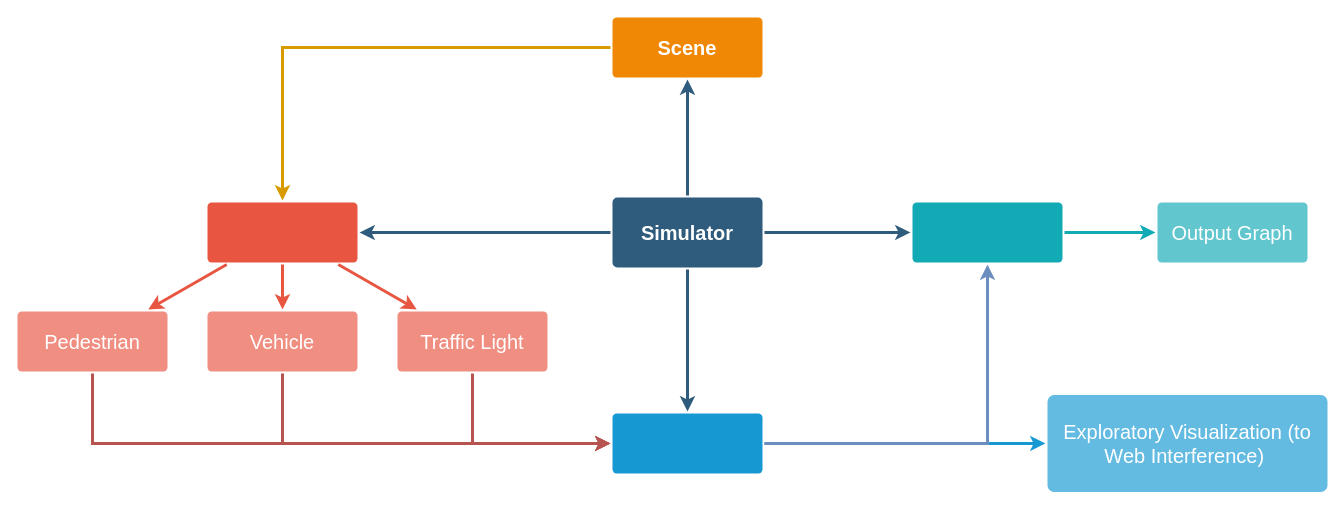
Image size: 1344x509. Some labels were removed from this diagram. The box of each missing label's shape, as (x1, y1, x2, y2) in pixels:
Plot: (912, 202, 1062, 262)
Random Generator: (207, 202, 357, 262)
Server: (612, 413, 762, 473)
